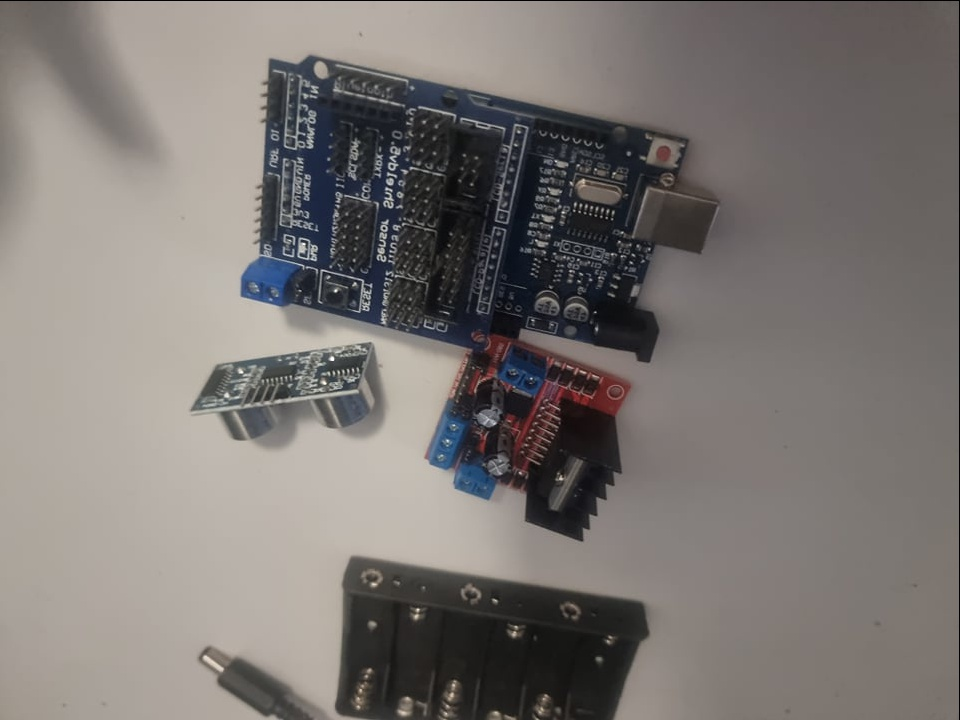5V EXPANSION: (228, 67, 522, 351)
BATTERY BOX: (333, 555, 651, 716)
MOTOR: (434, 333, 656, 540)
SENSOR: (186, 333, 384, 453)
UNO R3: (533, 120, 748, 361)
